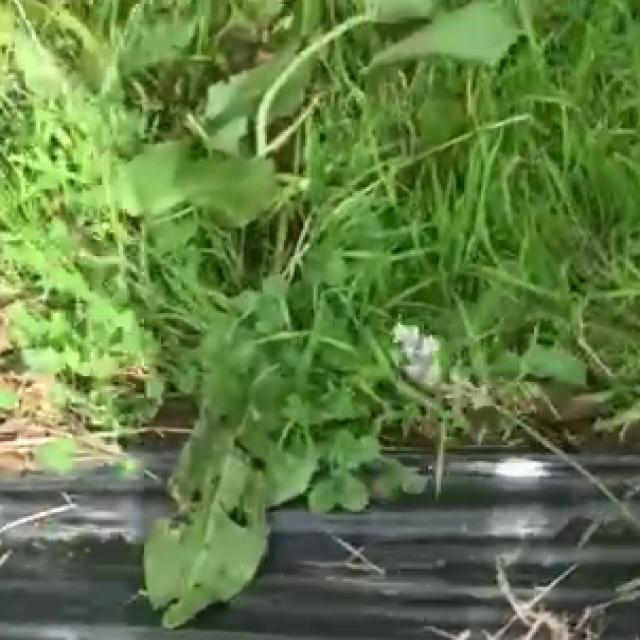organic waste: (83, 284, 432, 636), (68, 8, 553, 226)
